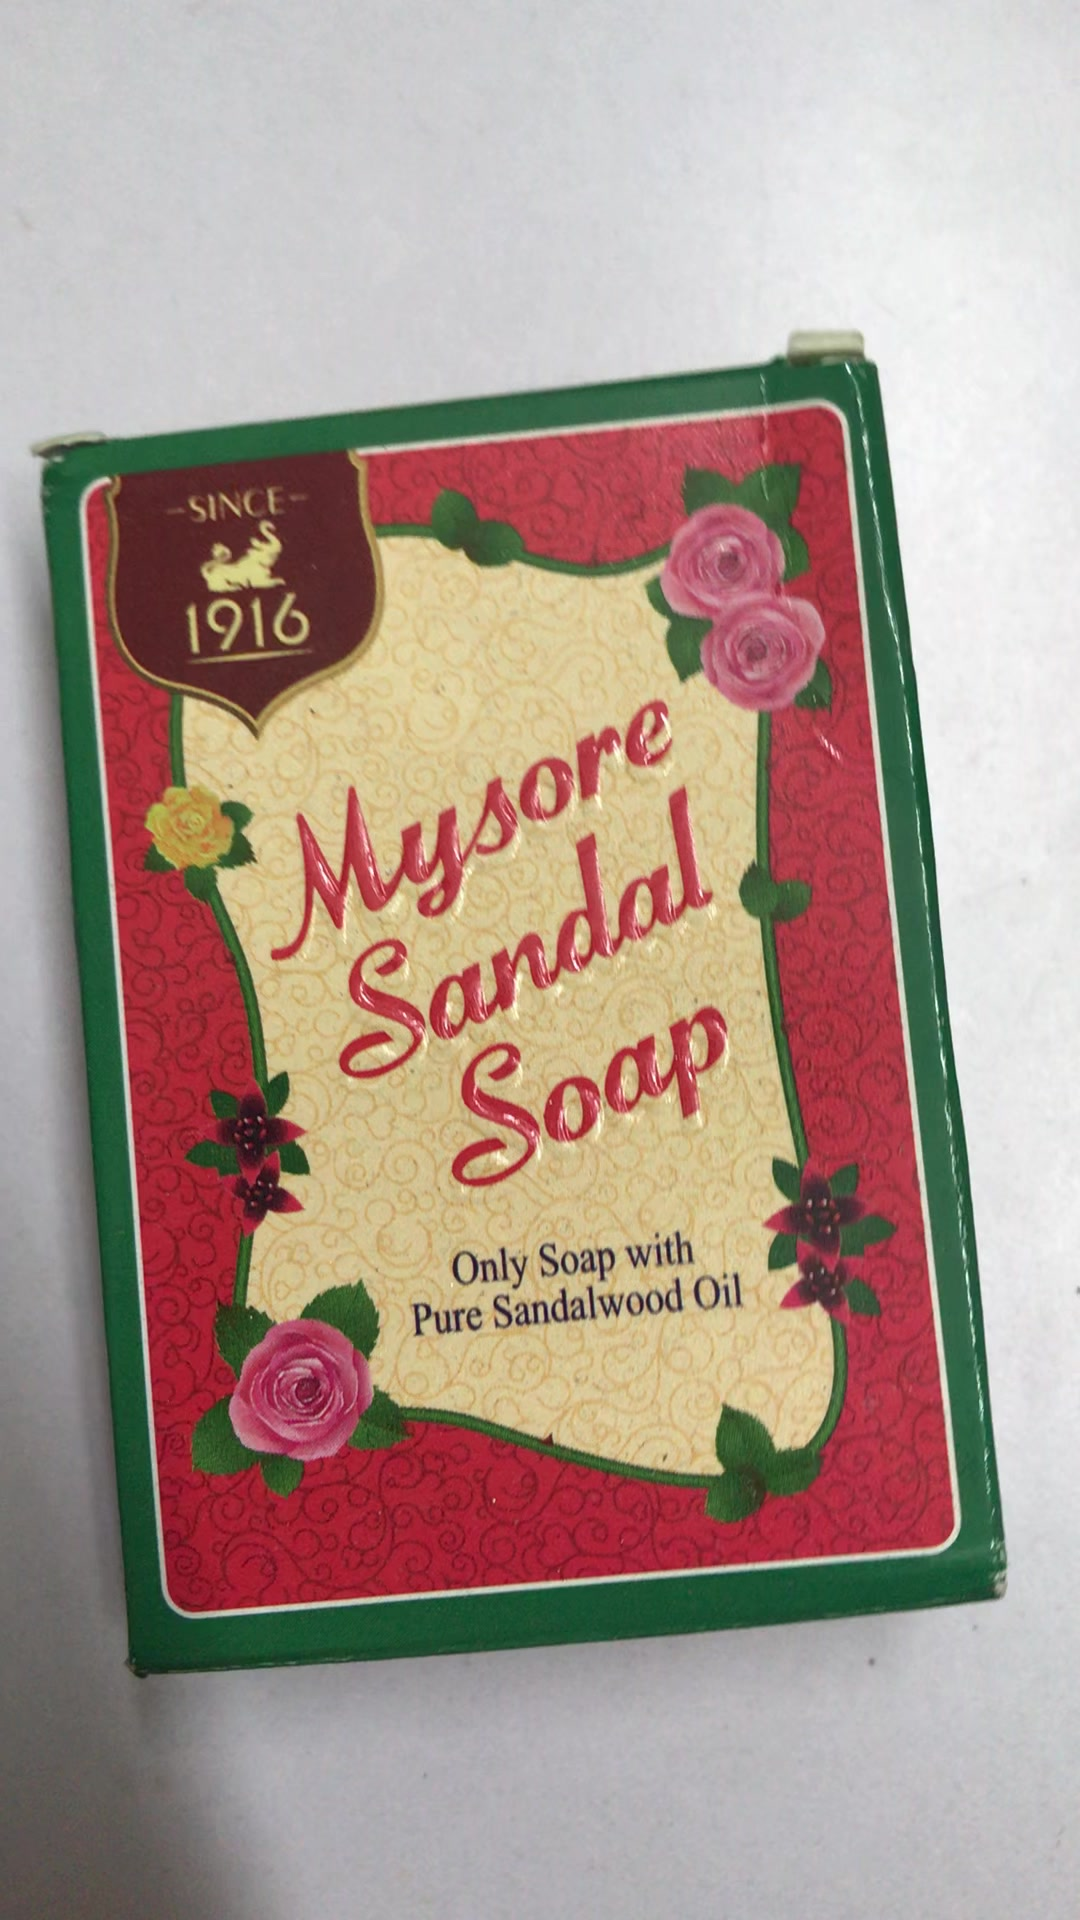mysore sandal soap: (36, 361, 1022, 1679)
